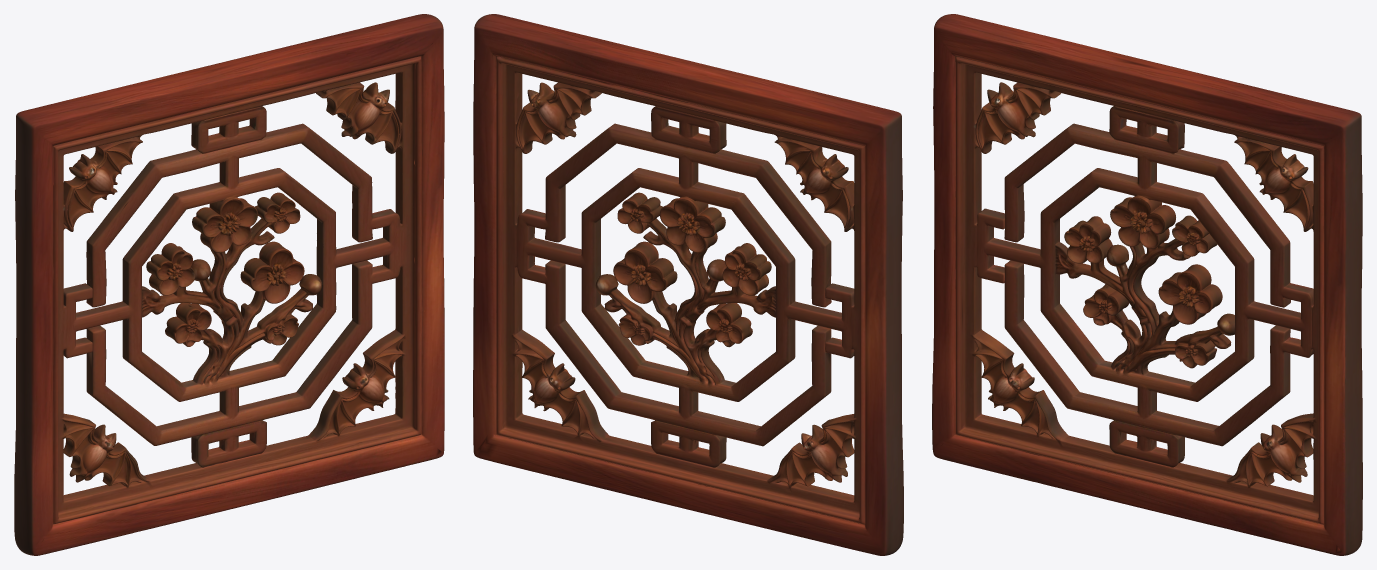
3 renders of one model, left to right at view 1: azimuth 30°, elevation 25°; view 2: azimuth 150°, elevation 25°; view 3: azimuth 330°, elevation 25°, orthographic.
Parts seen in each view (by area): view 1: node_0; view 2: node_0; view 3: node_0.
Boxes of the visible parts, x1,y1,x2,y2 form: node_0: (14, 14, 444, 555); node_0: (473, 14, 903, 555); node_0: (932, 14, 1362, 555).
Bounding box in the file's own units: 0.8536 × 0.8534 × 0.0672.
1 material, 1 textured.
